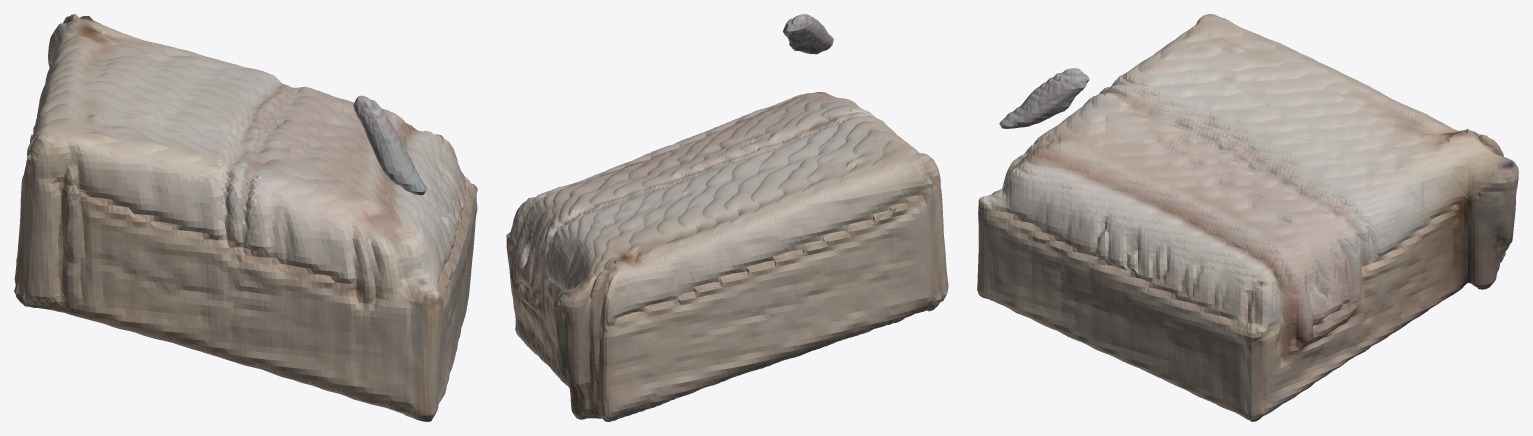
Rendered from asa-nx-queen-bed-with-hydraulic-strge.glb.
The picture shows the model from 3 angles, left to right: view 1: azimuth 30°, elevation 25°; view 2: azimuth 150°, elevation 25°; view 3: azimuth 270°, elevation 25°; orthographic projection. The views are drawn at different scales.
Parts seen in each view (by area): view 1: orient; view 2: orient; view 3: orient.
Boxes of the visible parts, x1=… form: orient: x1=14, y1=14, x2=477, y2=421; orient: x1=506, y1=14, x2=948, y2=421; orient: x1=977, y1=14, x2=1518, y2=421.
Bounding box in the file's own units: 1.7 × 1.15 × 2.08.
